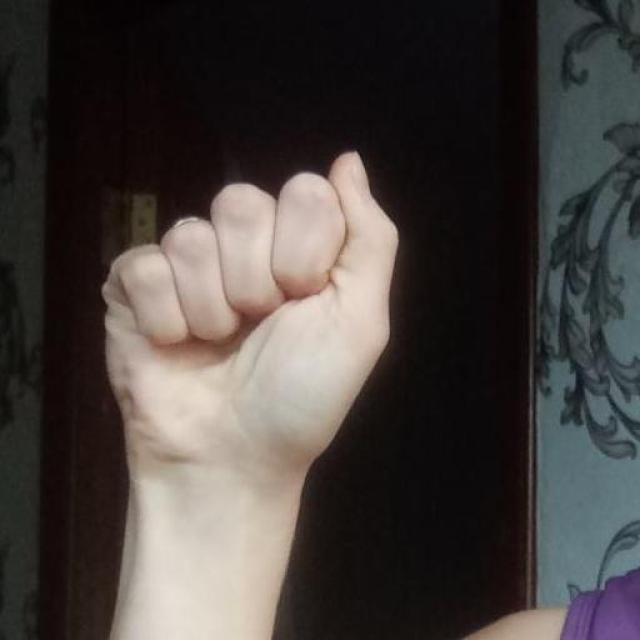hand: (100, 148, 400, 486)
